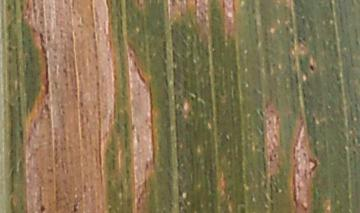tarspot: (307, 61, 317, 73)
